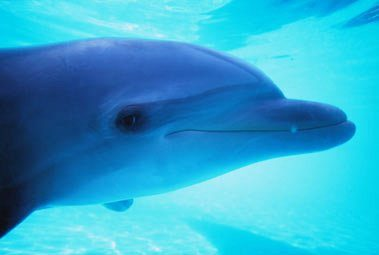dolphin: (1, 35, 355, 211)
